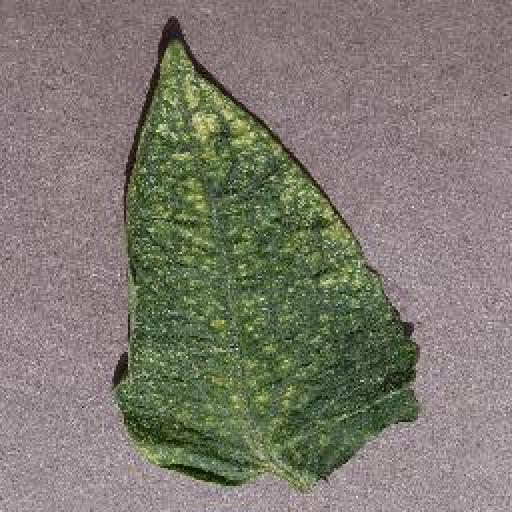Spider Mites: (116, 30, 422, 494)
